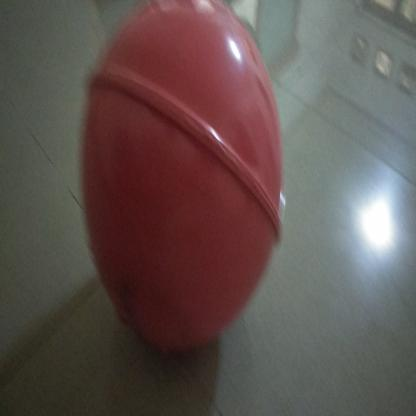red_buoy: (79, 0, 286, 358)
